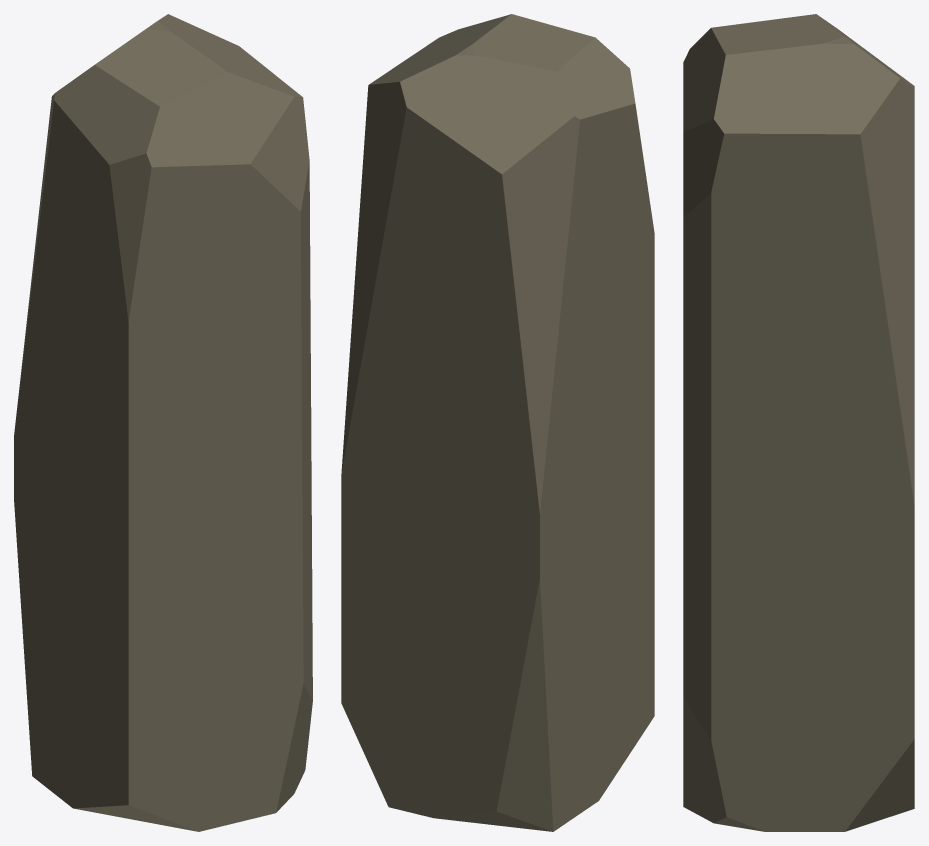
Rendered from rock4.fbx.
3 renders of one model, left to right at view 1: azimuth 30°, elevation 25°; view 2: azimuth 150°, elevation 25°; view 3: azimuth 270°, elevation 25°, orthographic.
Parts seen in each view (by area): view 1: Cube.004; view 2: Cube.004; view 3: Cube.004.
Part boxes in pixels (x1,y1,x2,y2): Cube.004: (14,14,312,831); Cube.004: (341,14,654,831); Cube.004: (683,14,914,831).
Bounding box in the file's own units: 74.87 × 266 × 74.87.
